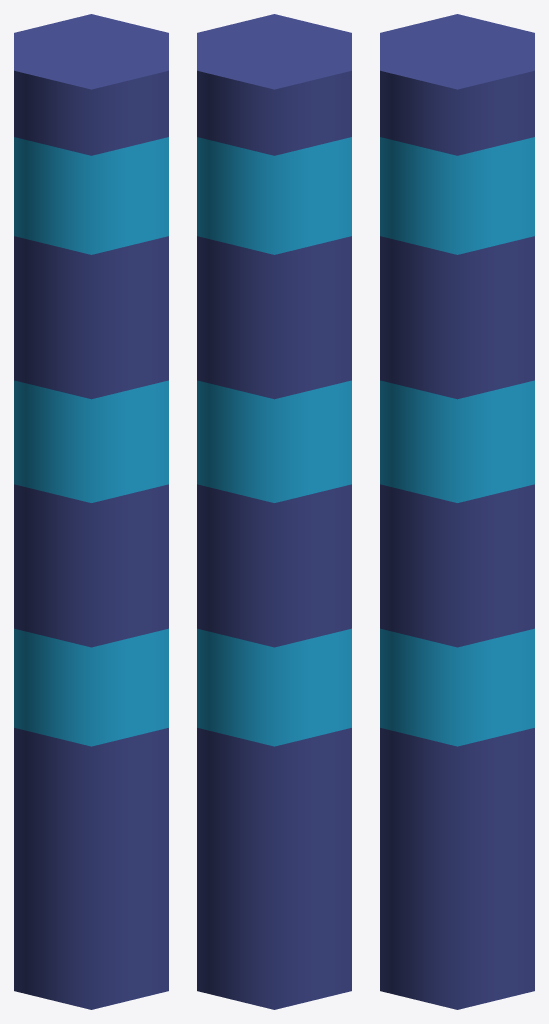
The model's file is SM_Lightpole_01.fbx.
The picture shows the model from 3 angles, left to right: view 1: azimuth 30°, elevation 25°; view 2: azimuth 150°, elevation 25°; view 3: azimuth 270°, elevation 25°; orthographic projection.
Visible parts, largest first — view 1: SM_Lightpole_01; view 2: SM_Lightpole_01; view 3: SM_Lightpole_01.
Boxes of the visible parts, box(x1,y1,x2,y2) form: SM_Lightpole_01: box(14, 14, 168, 1009); SM_Lightpole_01: box(197, 14, 351, 1009); SM_Lightpole_01: box(380, 14, 534, 1009).
Bounding box in the file's own units: 57.7 × 328 × 49.97.
